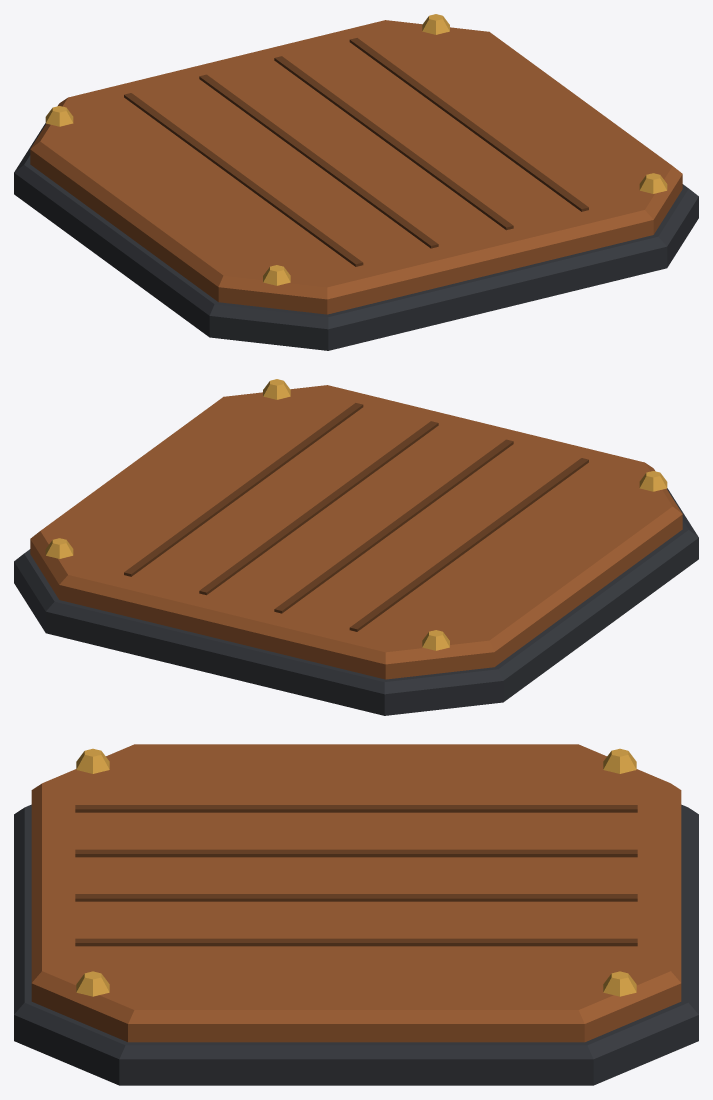
File: HarpoonBody.obj
The picture shows the model from 3 angles, top to bottom: view 1: azimuth 30°, elevation 25°; view 2: azimuth 150°, elevation 25°; view 3: azimuth 270°, elevation 25°; orthographic projection. The views are drawn at different scales.
Parts seen in each view (by area): view 1: HarpoonBody; view 2: HarpoonBody; view 3: HarpoonBody.
Boxes of the visible parts, <box> form: HarpoonBody: <box>14,14,698,350</box>; HarpoonBody: <box>14,379,698,715</box>; HarpoonBody: <box>14,744,698,1085</box>.
Size of the model in its own units: 0.936 by 0.1158 by 0.936.
